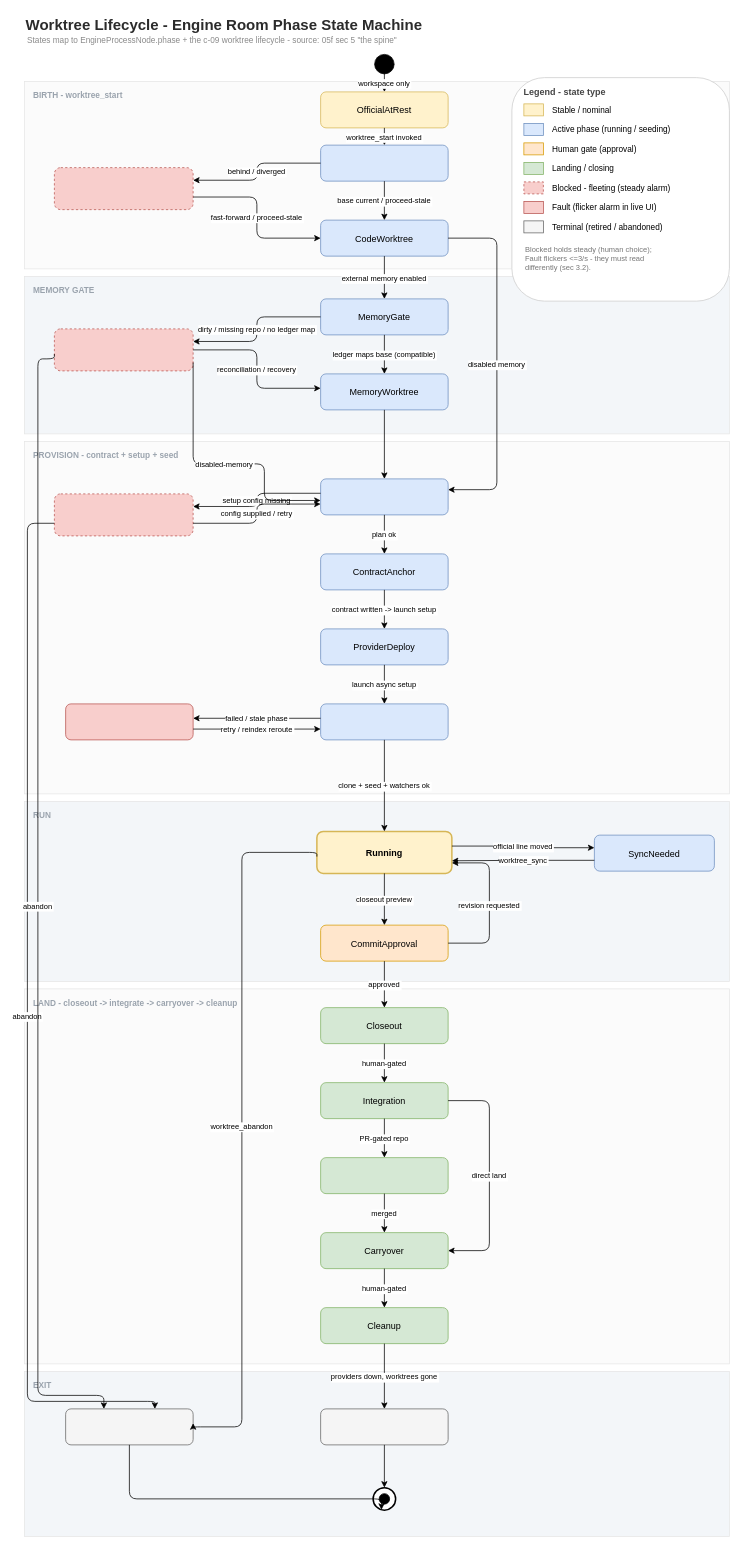
This 742x1549 diagram has some shape labels left out. The centre of each missing label's shape, as x and y in pixels:
"Abandoned" goes at (x=129, y=1426).
"Fault" goes at (x=129, y=721).
"Fleeting_MemBlocked (blocked)" goes at (x=123, y=349).
"Fleeting_ProviderBlocked (blocked - pre-contract)" goes at (x=123, y=514).
"Fleeting_StaleBase (blocked)" goes at (x=123, y=188).
"Preflight" goes at (x=384, y=162).
"ProviderPlan" goes at (x=384, y=496).
"PushPR" goes at (x=384, y=1175).
"Retired" goes at (x=384, y=1426).
"Seeding" goes at (x=384, y=721).
